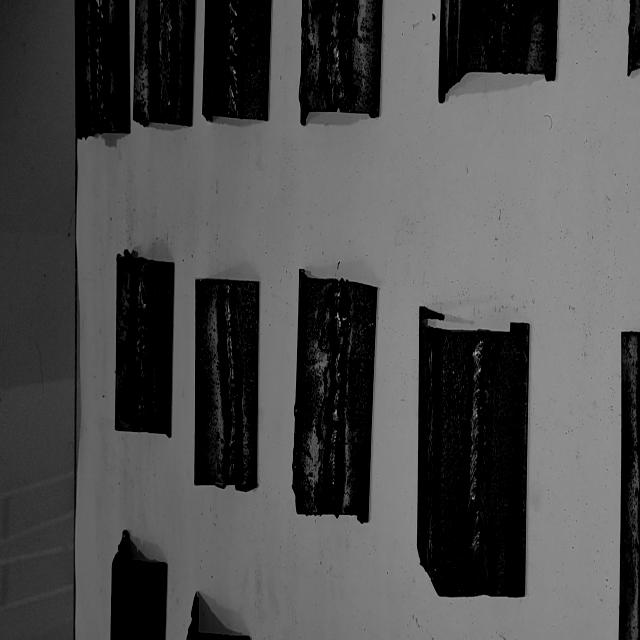Bad Weld: (95, 0, 105, 129)
Defect: (495, 0, 522, 72), (95, 0, 106, 129)
Good Weld: (466, 336, 489, 594), (326, 286, 349, 510), (220, 283, 237, 483), (134, 261, 150, 428), (331, 0, 346, 107), (158, 0, 172, 110), (227, 0, 238, 113)
